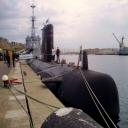submarine: (28, 25, 120, 116)
